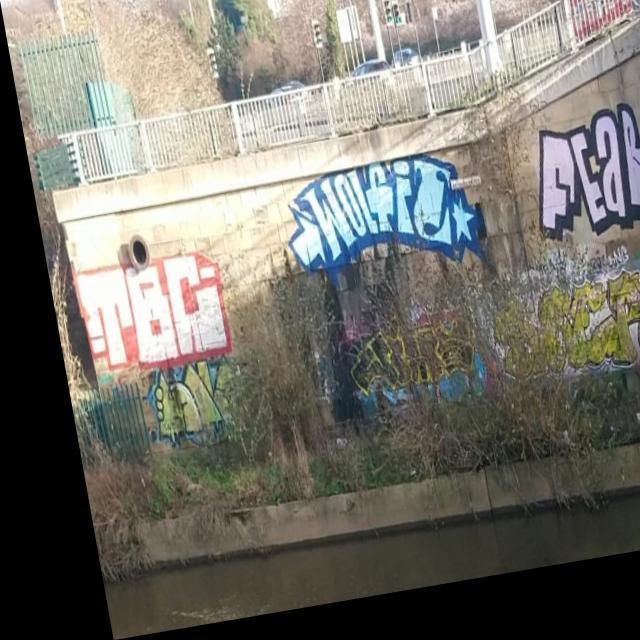-: (245, 130, 474, 308), (52, 249, 232, 389), (471, 279, 640, 411), (513, 131, 640, 268), (638, 262, 640, 388)
